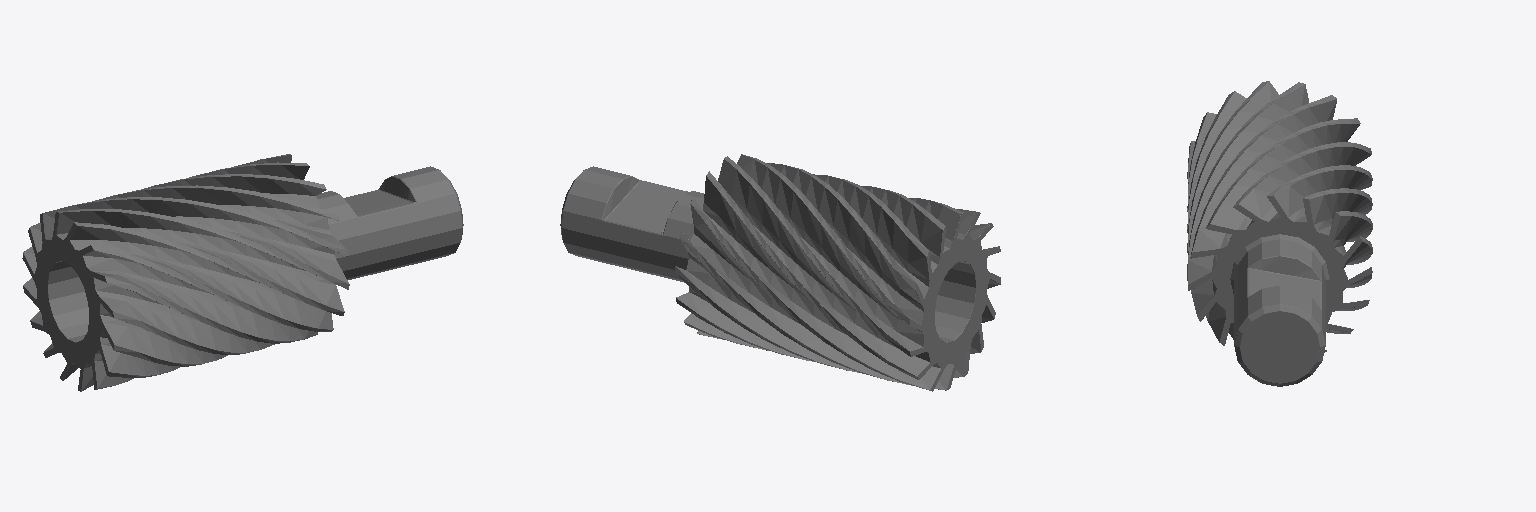
File: MillingCutter_low.obj
The picture shows the model from 3 angles: view 1: azimuth 30°, elevation 25°; view 2: azimuth 150°, elevation 25°; view 3: azimuth 270°, elevation 25°; orthographic projection.
Parts seen in each view (by area): view 1: MillingCutter; view 2: MillingCutter; view 3: MillingCutter.
Part boxes in pixels (bbox=[...]): MillingCutter: bbox=[22, 154, 463, 391]; MillingCutter: bbox=[560, 154, 1000, 391]; MillingCutter: bbox=[1187, 81, 1372, 386].
Bounding box in the file's own units: 3.71 × 1.59 × 1.59.